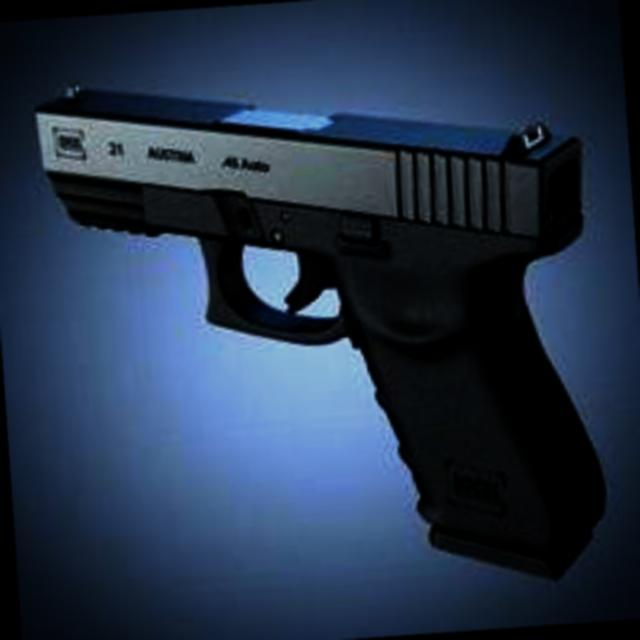semi automatic: (27, 22, 626, 616)
